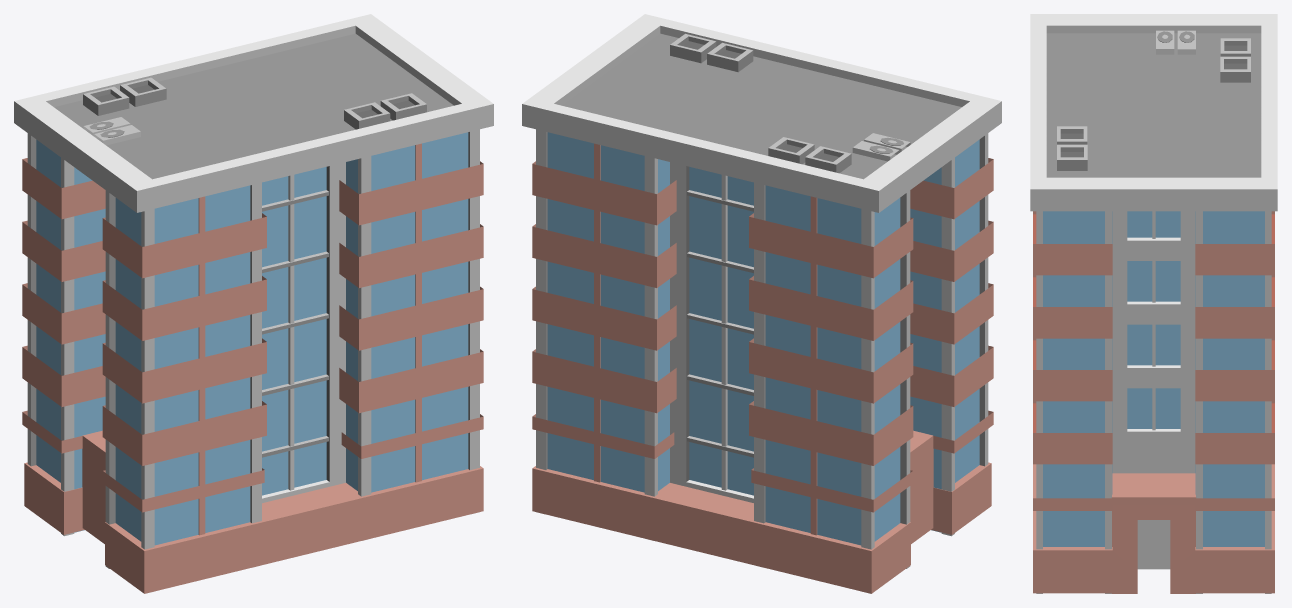
The model's file is building_1_2_2_5.glb.
The picture shows the model from 3 angles, left to right: view 1: azimuth 30°, elevation 25°; view 2: azimuth 150°, elevation 25°; view 3: azimuth 270°, elevation 25°; orthographic projection.
Parts seen in each view (by area): view 1: building_1_2_2_5; view 2: building_1_2_2_5; view 3: building_1_2_2_5.
Part boxes in pixels (x1,y1,x2,y2): building_1_2_2_5: (14,14,493,593); building_1_2_2_5: (522,14,1001,593); building_1_2_2_5: (1030,14,1277,593).
Size of the model in its own units: 30.67 by 33.9 by 18.29.
Materials: 1 (1 with a texture image).
